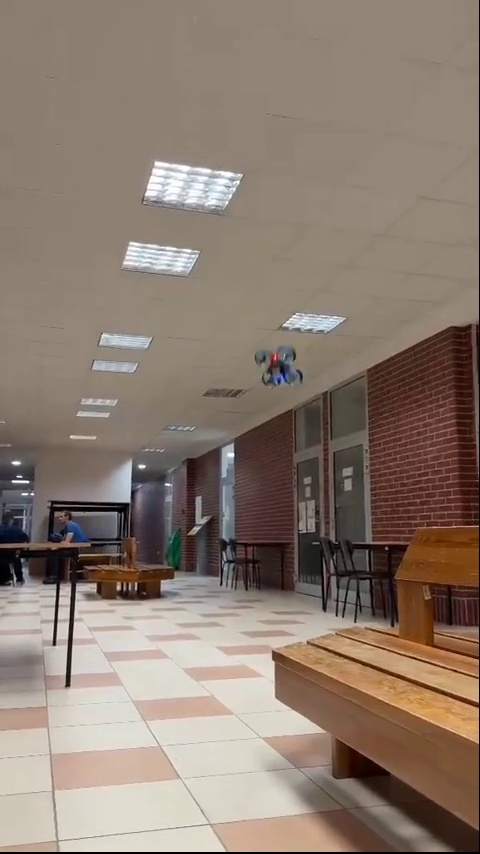drone: (253, 345, 306, 390)
no vest: (44, 502, 87, 574), (0, 499, 33, 589)
